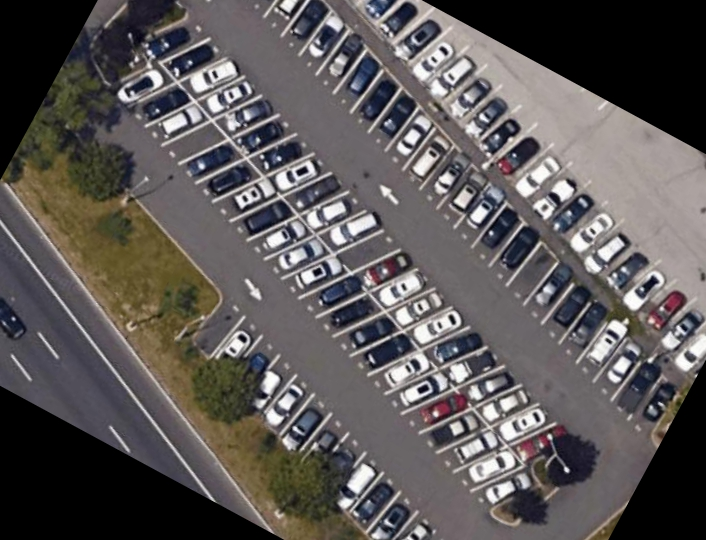parkingspot: (101, 13, 591, 516), (243, 0, 684, 448), (346, 0, 706, 384), (188, 290, 448, 540)
